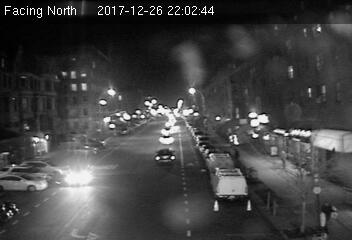car: (63, 164, 94, 185), (153, 147, 176, 165), (158, 135, 175, 144)
truck: (211, 167, 248, 200)
